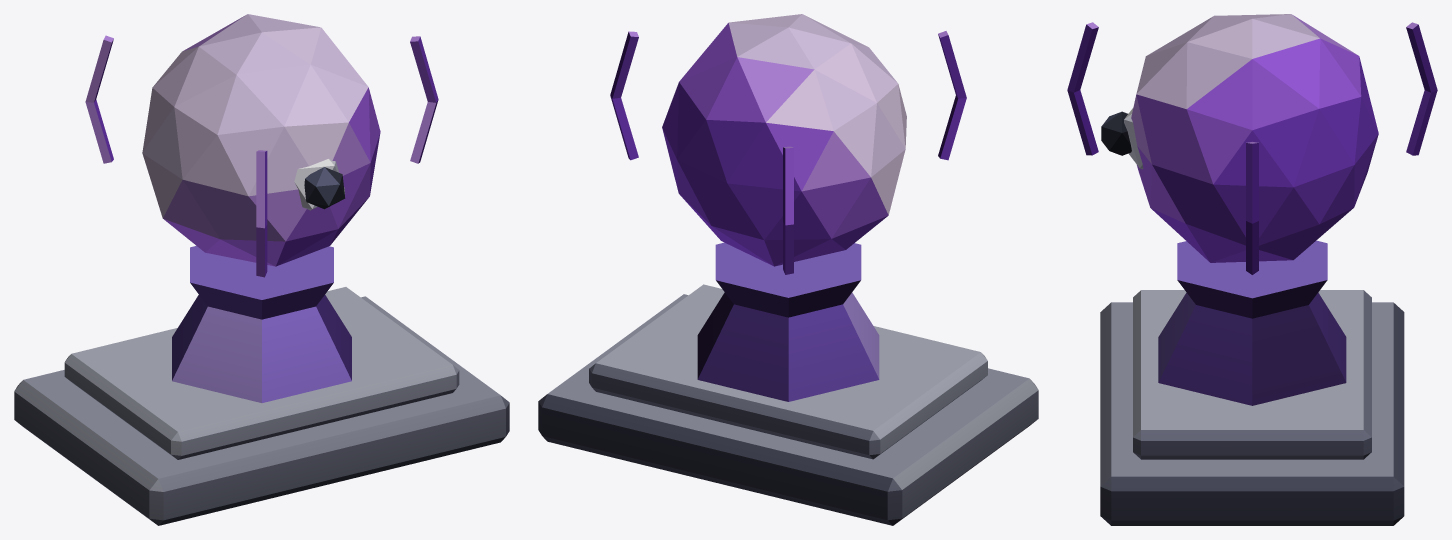
Rendered from gym_top_psychic.glb.
3 views of the same model, side by side, from view 1: azimuth 30°, elevation 25°; view 2: azimuth 150°, elevation 25°; view 3: azimuth 270°, elevation 25° (orthographic). The views are drawn at different scales.
Parts seen in each view (by area): view 1: gym_top_psychic; view 2: gym_top_psychic; view 3: gym_top_psychic.
Boxes of the visible parts, x1,y1,x2,y2 form: gym_top_psychic: [14, 14, 509, 525]; gym_top_psychic: [538, 14, 1038, 525]; gym_top_psychic: [1067, 14, 1437, 525].
Size of the model in its own units: 0.8 by 0.8536 by 0.6821.
